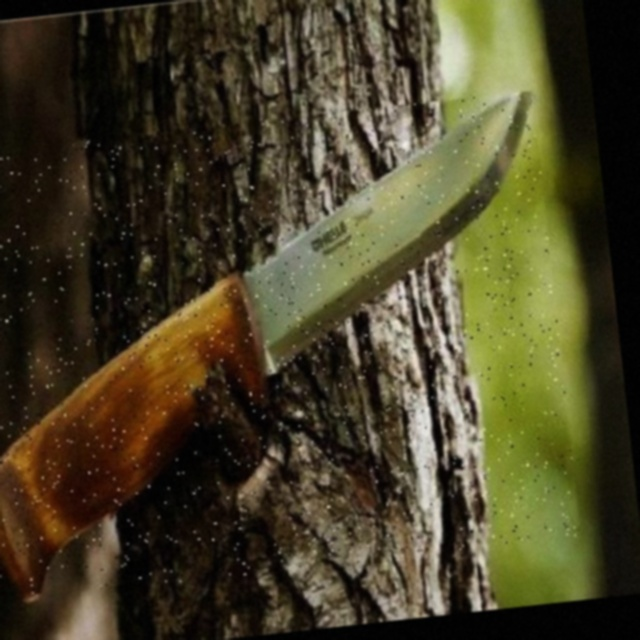Sharp-Object: (0, 91, 582, 603)
